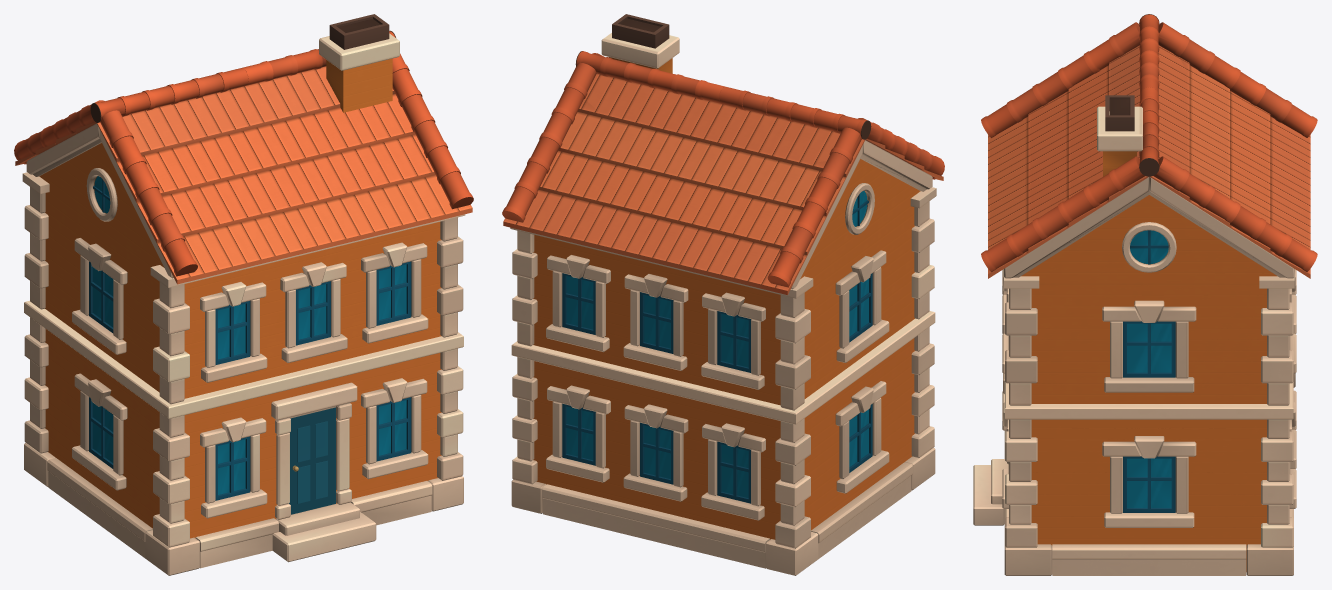
File: houdini_orange_gable_house.glb
The picture shows the model from 3 angles, left to right: view 1: azimuth 30°, elevation 25°; view 2: azimuth 150°, elevation 25°; view 3: azimuth 270°, elevation 25°; orthographic projection. The views are drawn at different scales.
Visible parts, largest first — view 1: LOD0; view 2: LOD0; view 3: LOD0.
Part boxes in pixels (<box>): LOD0: <box>14,14,473,575</box>; LOD0: <box>502,14,944,575</box>; LOD0: <box>973,14,1317,575</box>.
Size of what is drawn, in the model's own units: 7.07 by 10.09 by 7.04.
Materials: 5 (5 with a texture image).
